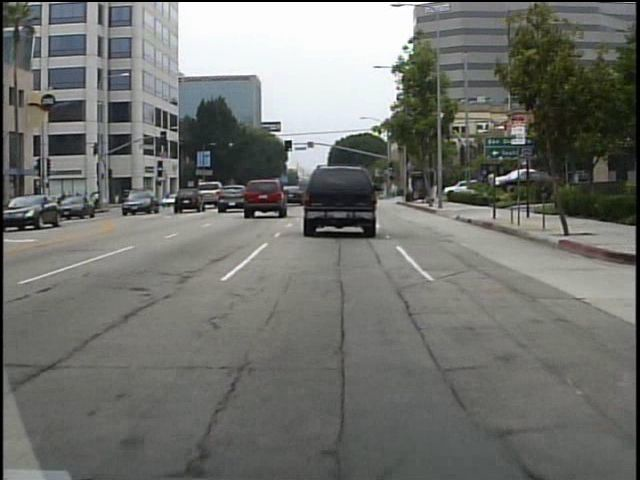person: (134, 186, 146, 208), (387, 181, 398, 201)
